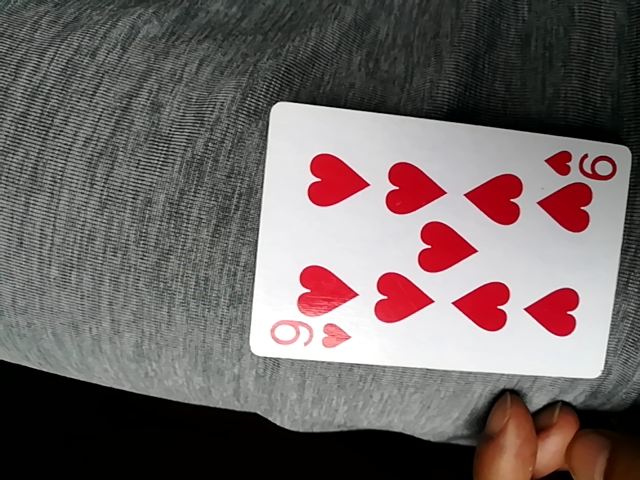hx 9: (253, 101, 625, 378)
